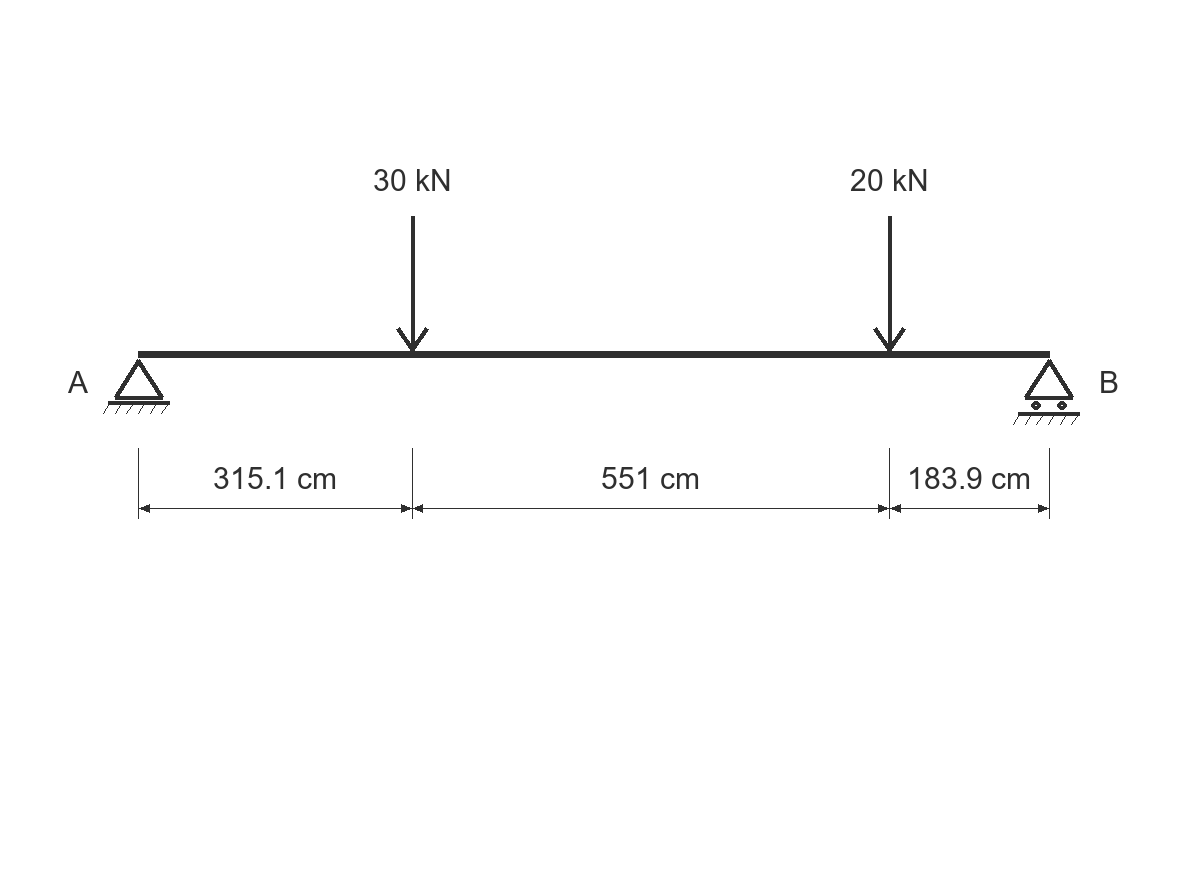pin_support: (103, 359, 170, 414)
point_load: (396, 216, 429, 352), (873, 216, 906, 352)
roller_support: (1013, 359, 1080, 425)
